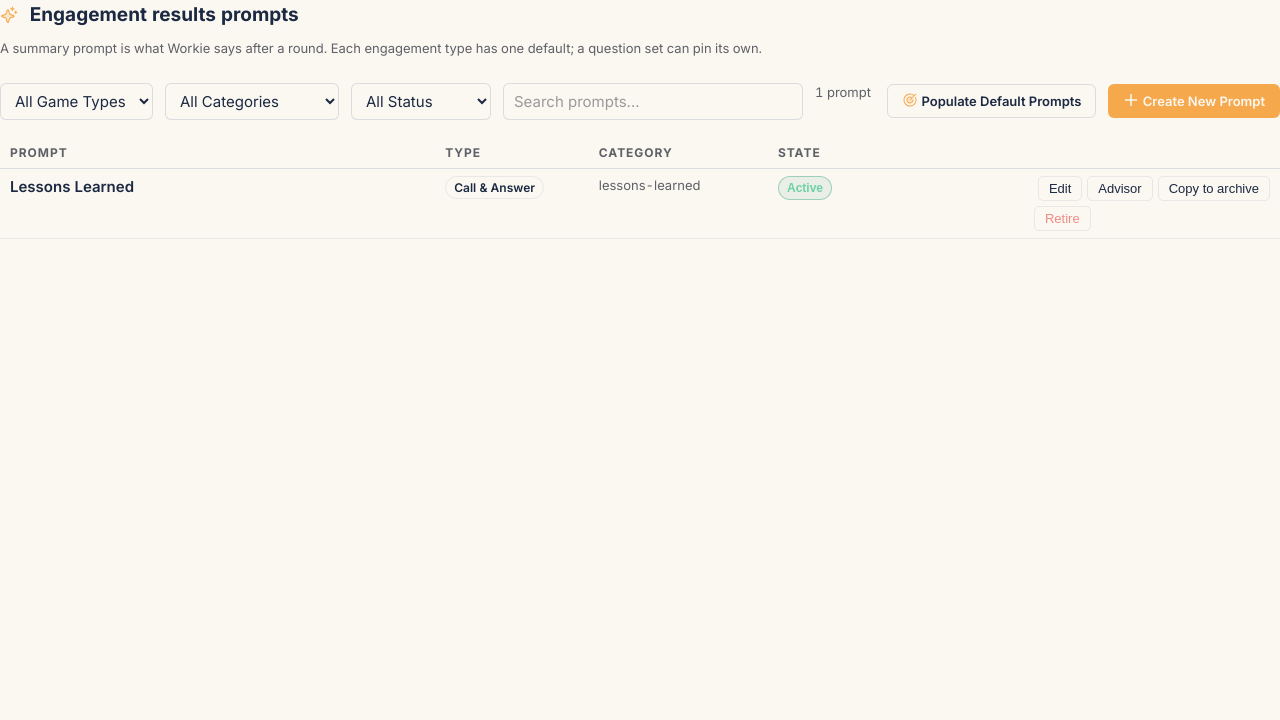
Test: the two controls the owner called unhelpful are gone, and nothing was lost › an existing prompt keeps its category and scenario through an edit
Later steps or results of the test are not shown.
Click the button titled "Edit this prompt".
click(1060, 188)  # box 1038,176 -> 1082,201
(page scrolled)
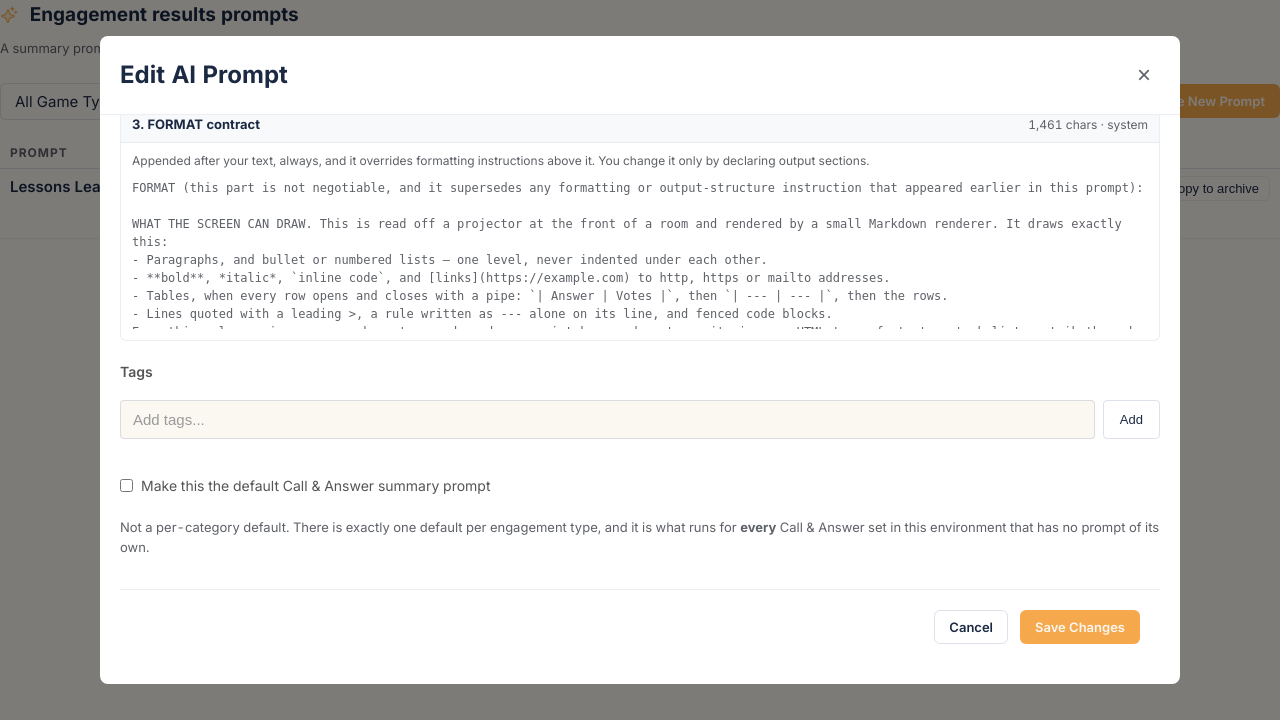
Now the heading "Edit AI Prompt" is shown, box 120,56 -> 288,94
